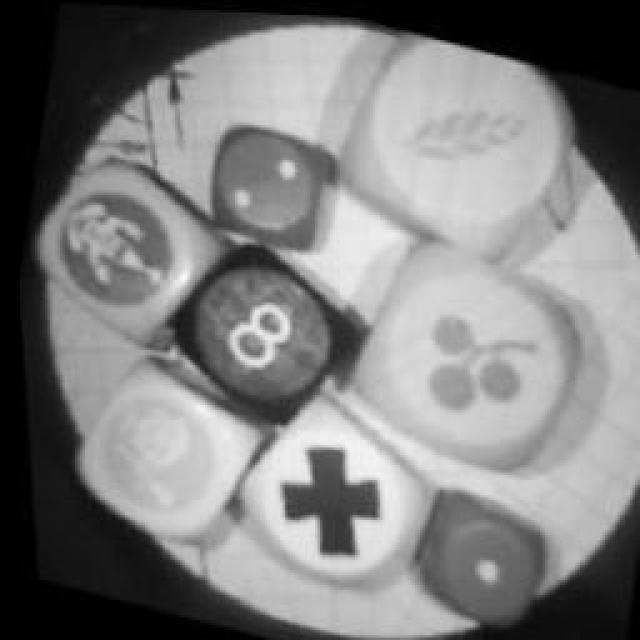dice_1: (384, 465, 556, 640)
dice_2: (190, 104, 350, 266)
